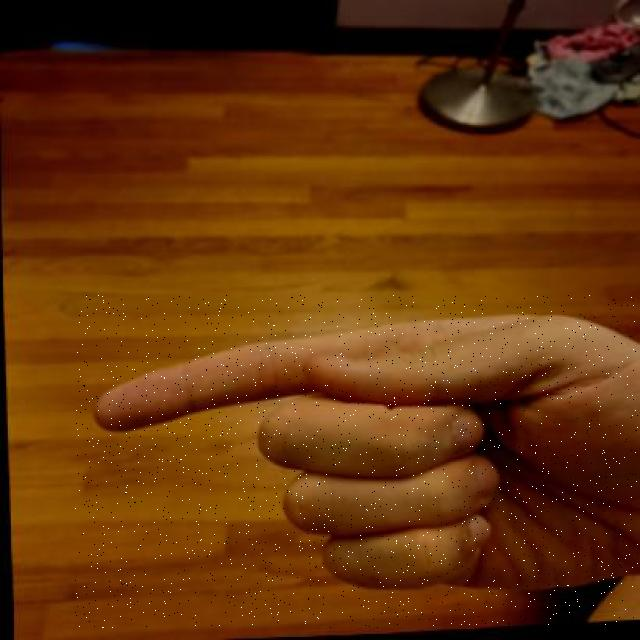G: (75, 295, 638, 628)
